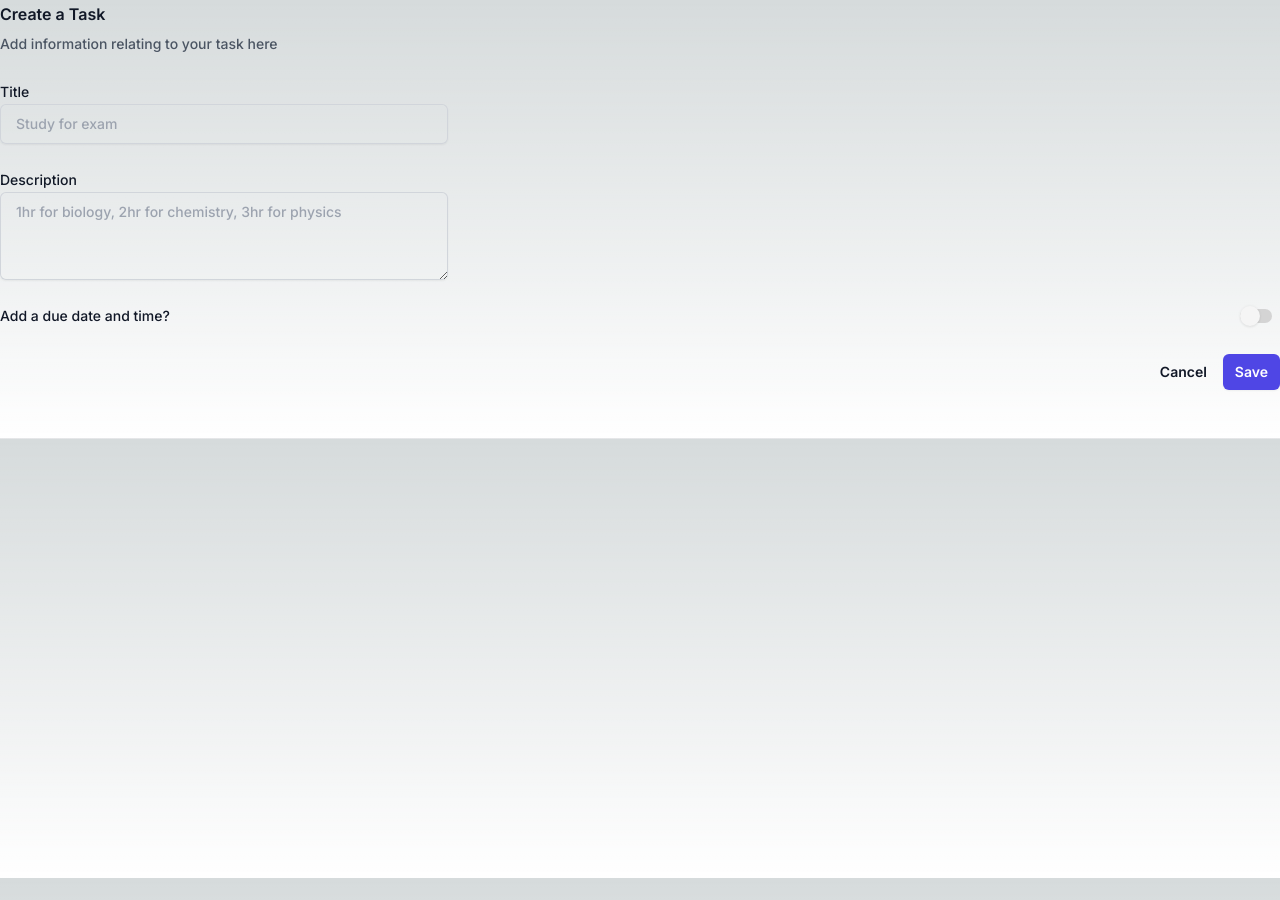
Form component › handles toggle switch change
Check: the text "Select Date and Time" is not shown
Click the switch labelled "Add a due date and time?": (1256, 316) top-left (1240, 309), bottom-right (1272, 323)
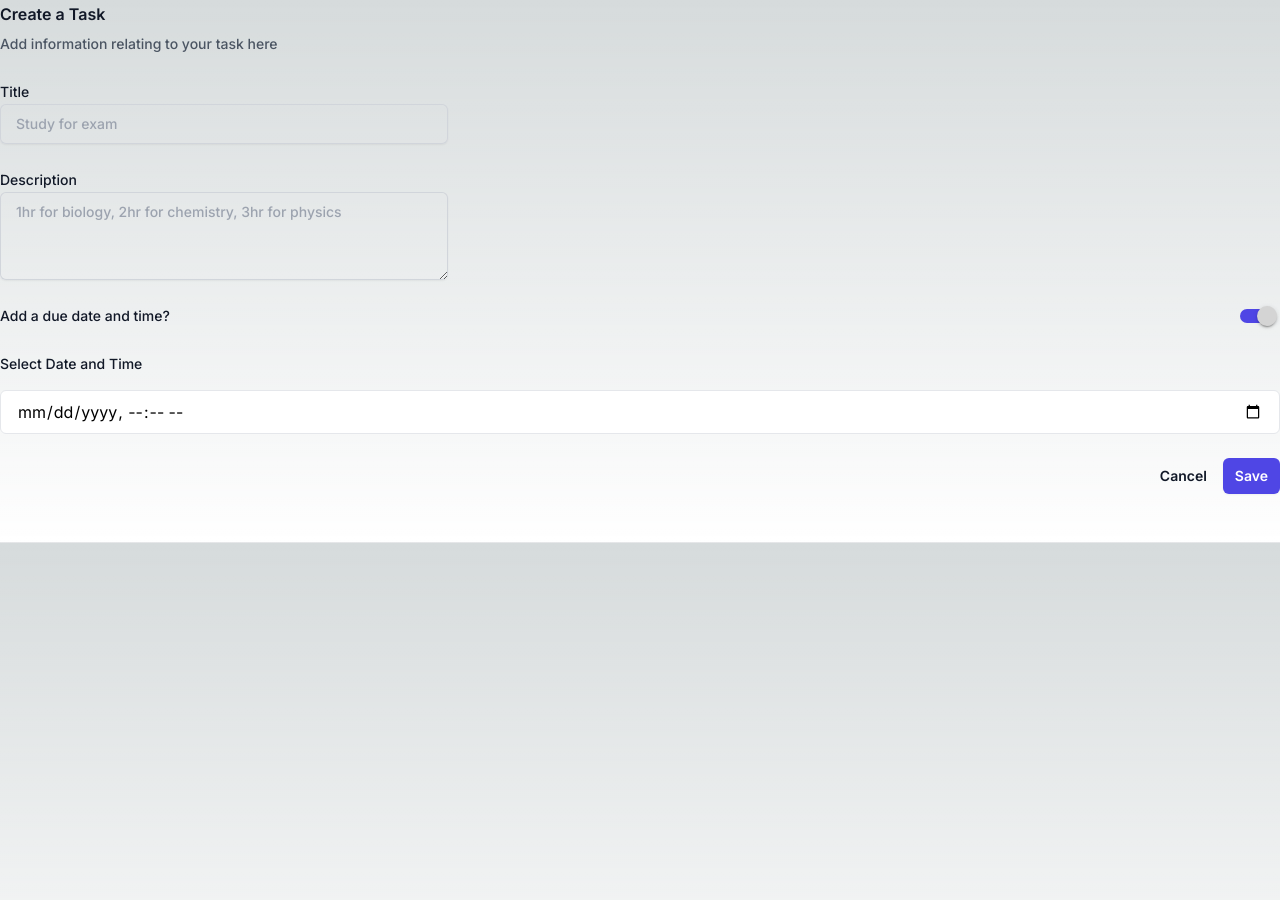
Check: the switch labelled "Add a due date and time?" is checked, box top-left (1240, 309), bottom-right (1272, 323)
Check: the field labelled "Select Date and Time" is shown, box top-left (0, 390), bottom-right (1279, 434)
